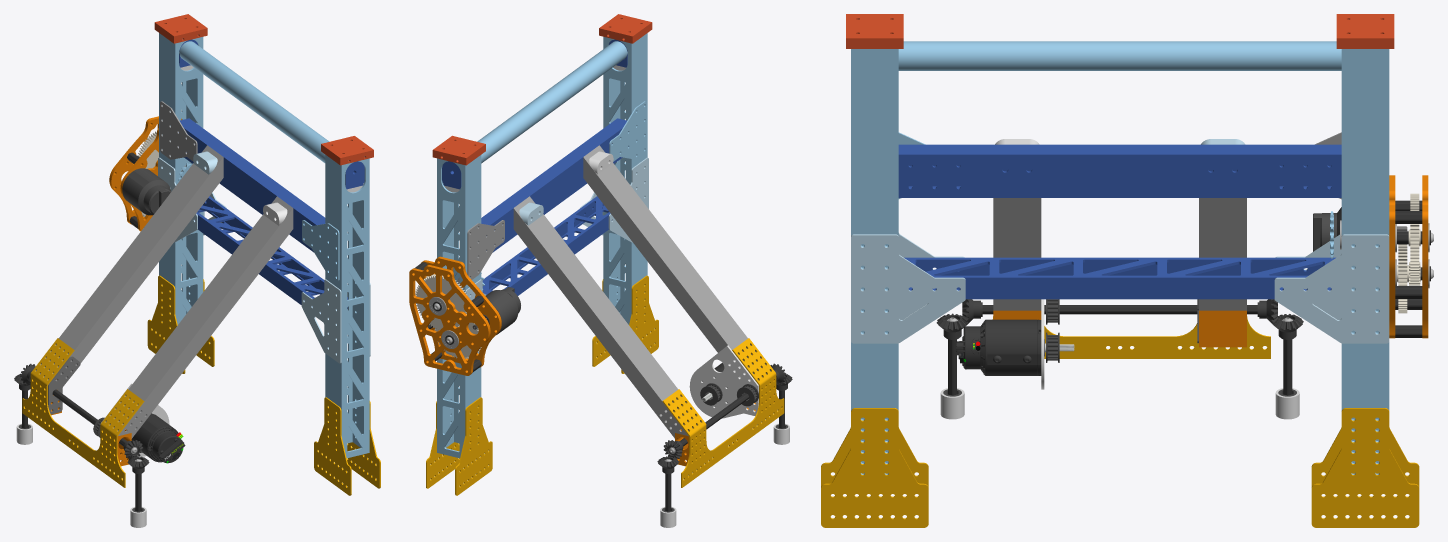
The picture shows the model from 3 angles, left to right: view 1: azimuth 30°, elevation 25°; view 2: azimuth 150°, elevation 25°; view 3: azimuth 270°, elevation 25°; orthographic projection. The views are drawn at different scales.
Parts seen in each view (by area): view 1: Tube 2"x1"x17.755" (×2), Tube 2"x2"x20.433" (×2), Tube 2"x1"x18.5" (×2), Part 27, Part 1, Part 20, Part 25, Part 18 (×2), Falcon 500 v3, Powered by Talon FX (217-6515) (×2), Falcon 500 Motor (217-6515), Part 22, Part 29 (+8 smaller); view 2: Tube 2"x1"x17.755" (×2), Tube 2"x2"x20.433" (×2), Tube 2"x1"x18.5" (×2), Part 18 (×2), Part 27, Part 1, Part 32, Part 22, Part 20, Part 30, Part 29, Part 16 (+7 smaller); view 3: Tube 2"x1"x18.5" (×2), Tube 2"x2"x20.433" (×2), Part 1, Part 21, Part 19, Part 17, Part 24, Tube 2"x1"x17.755" (×2), Part 27, Falcon 500 v3, Powered by Talon FX (217-6515) (×2), Part 18 (×2), Part 16 (+9 smaller).
Part boxes in pixels (x1,y1,x2,y2): Tube 2"x1"x17.755" (×2): (35,145,293,438); Tube 2"x2"x20.433" (×2): (159,33,369,458); Tube 2"x1"x18.5" (×2): (178,118,347,308); Part 27: (22,338,144,487); Part 1: (179,41,329,162); Part 20: (314,397,351,495); Part 25: (301,279,341,363); Part 18 (×2): (109,116,181,231); Falcon 500 v3, Powered by Talon FX (217-6515) (×2): (131,414,185,463); Falcon 500 Motor (217-6515): (122,168,171,215); Part 22: (147,275,185,373); Part 29: (302,220,339,281); Tube 2"x1"x17.755" (×2): (513,145,771,438); Tube 2"x2"x20.433" (×2): (437,33,647,458); Tube 2"x1"x18.5" (×2): (481,118,628,295); Part 18 (×2): (409,256,501,375); Part 27: (662,338,784,487); Part 1: (477,41,627,163); Part 32: (689,345,758,418); Part 22: (455,397,492,495); Part 20: (621,275,658,373); Part 30: (467,220,504,279); Part 29: (609,101,646,161); Part 16: (432,135,485,165); Tube 2"x1"x18.5" (×2): (898,144,1341,299); Tube 2"x2"x20.433" (×2): (851,49,1389,474); Part 1: (898,41,1341,70); Part 21: (1311,408,1419,527); Part 19: (821,408,928,527); Part 17: (1274,234,1389,343); Part 24: (851,234,965,343); Tube 2"x1"x17.755" (×2): (993,198,1246,310); Part 27: (992,316,1270,358); Falcon 500 v3, Powered by Talon FX (217-6515) (×2): (956,319,1037,375); Part 18 (×2): (1389,175,1428,338); Part 16: (1336,14,1394,48).
Bounding box in the file's own units: 0.3993 × 0.6118 × 0.6506.
